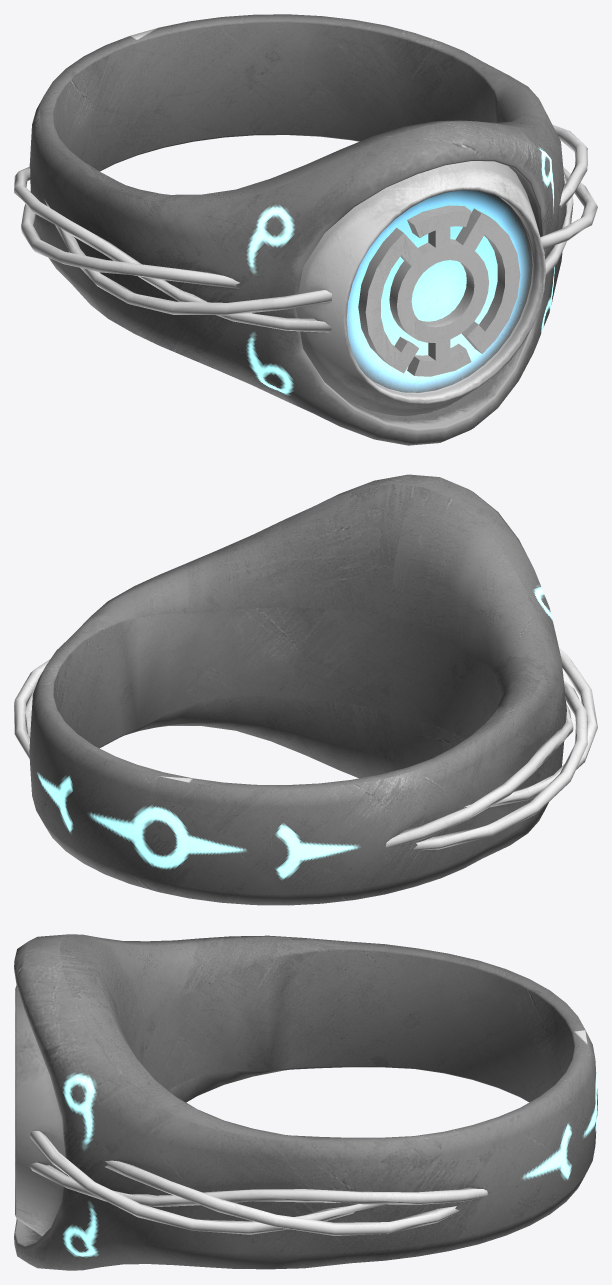
File: mod5.gltf
The picture shows the model from 3 angles, top to bottom: view 1: azimuth 30°, elevation 25°; view 2: azimuth 150°, elevation 25°; view 3: azimuth 270°, elevation 25°; orthographic projection.
Parts seen in each view (by area): view 1: Ring; view 2: Ring; view 3: Ring.
Part boxes in pixels (x1,y1,x2,y2): Ring: (14,14,597,445); Ring: (14,474,597,905); Ring: (14,934,597,1270).
Bounding box in the file's own units: 11.8 × 6.76 × 11.71.
Materials: 1 (1 with a texture image).
